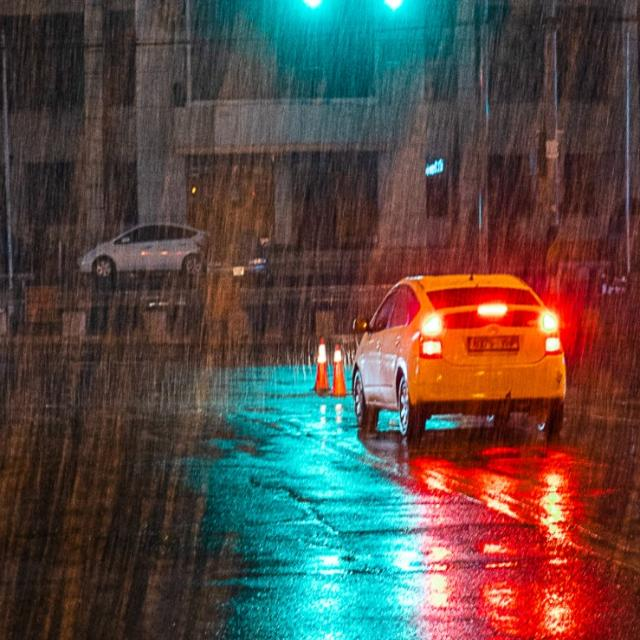car: (348, 274, 567, 446), (76, 220, 212, 280)
